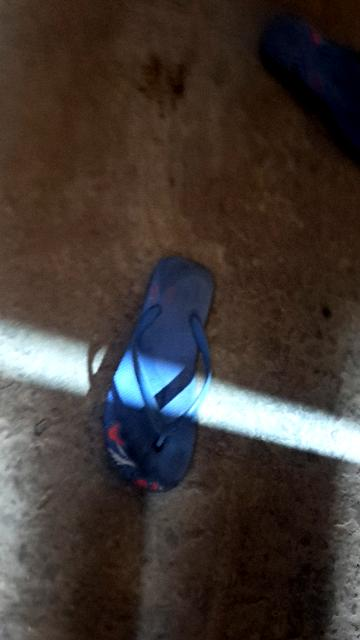sandal: (84, 247, 240, 498)
